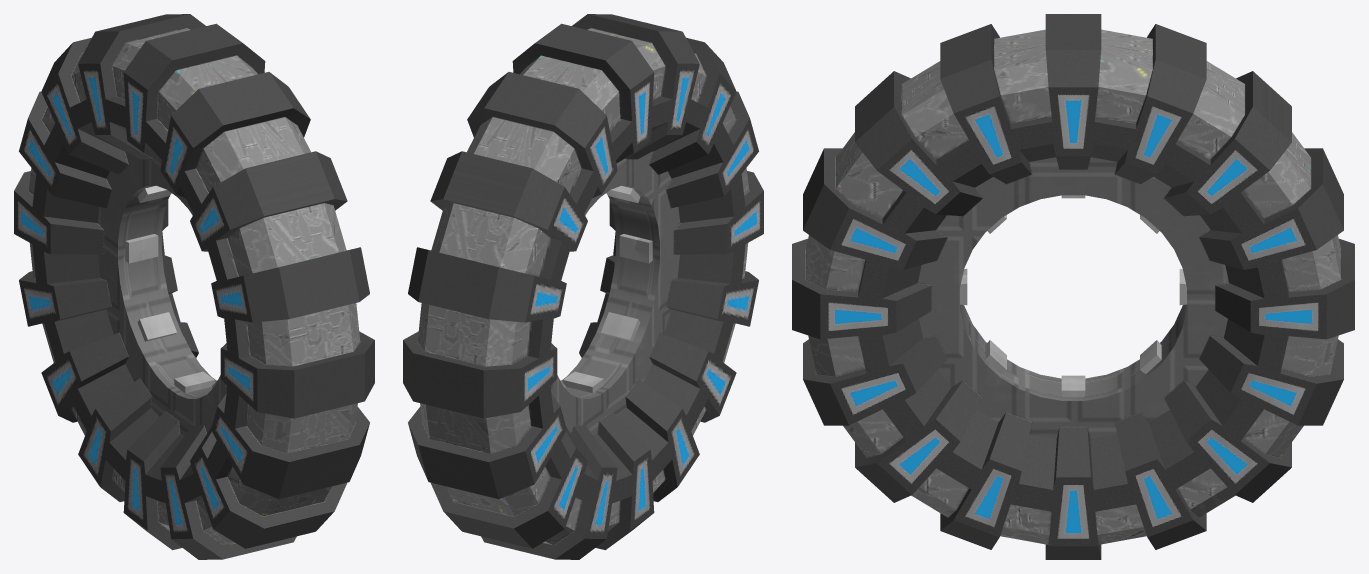
Rendered from station02_ring.glb.
3 renders of one model, left to right at view 1: azimuth 30°, elevation 25°; view 2: azimuth 150°, elevation 25°; view 3: azimuth 270°, elevation 25°, orthographic. The views are drawn at different scales.
Parts seen in each view (by area): view 1: Rotating_LP_cylinder6_default.002; view 2: Rotating_LP_cylinder6_default.002; view 3: Rotating_LP_cylinder6_default.002.
Boxes of the visible parts, <box> form: Rotating_LP_cylinder6_default.002: <box>14,14,374,559</box>; Rotating_LP_cylinder6_default.002: <box>403,14,763,559</box>; Rotating_LP_cylinder6_default.002: <box>792,14,1354,559</box>.
Bounding box in the file's own units: 2 × 7.96 × 7.96.
1 material, 1 textured.
